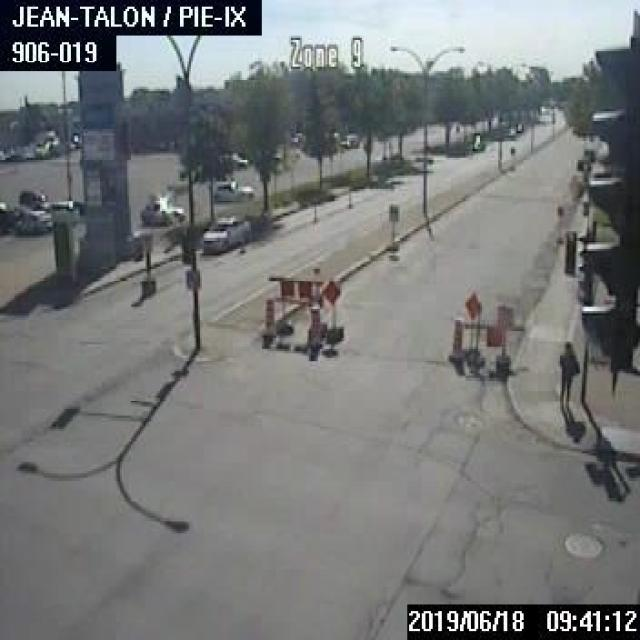construction: (266, 265, 341, 350), (460, 294, 522, 374), (259, 296, 275, 337), (307, 304, 320, 351), (448, 317, 462, 358)
pedestrian: (557, 336, 580, 406)
vehicle: (200, 213, 253, 251), (141, 197, 184, 224), (12, 210, 52, 232), (212, 180, 254, 199), (17, 188, 45, 200), (0, 202, 13, 227), (228, 151, 246, 166), (338, 132, 356, 146), (470, 133, 483, 149), (514, 120, 523, 130)
